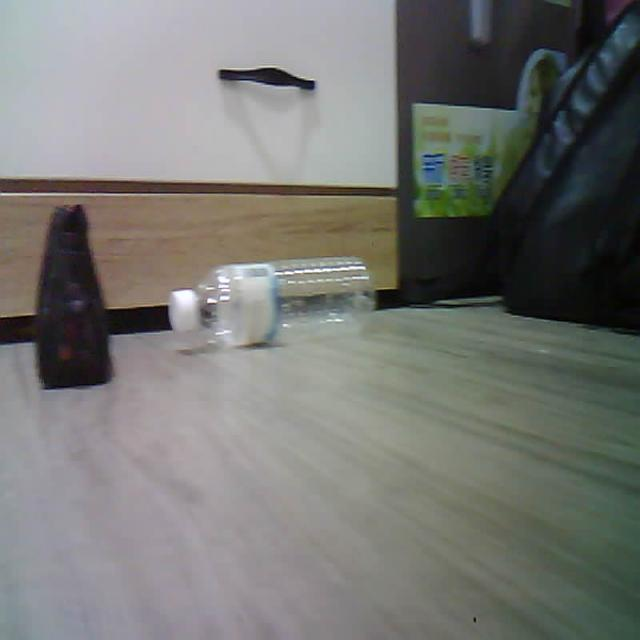bottle: (168, 256, 374, 347)
